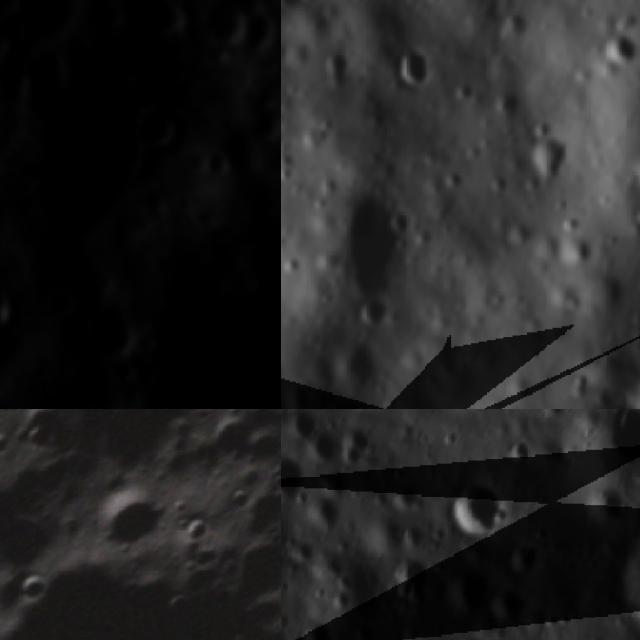crater: (0, 521, 281, 640), (78, 461, 185, 569), (0, 486, 69, 589), (194, 409, 267, 474), (454, 477, 514, 540), (6, 0, 90, 43), (0, 556, 60, 616), (121, 0, 192, 45), (131, 95, 186, 153), (90, 302, 141, 358), (172, 505, 223, 556), (448, 565, 493, 619), (601, 409, 640, 471), (392, 555, 434, 609), (193, 0, 242, 46), (391, 37, 436, 86), (618, 526, 640, 617), (591, 480, 629, 524), (242, 10, 279, 52), (504, 538, 544, 574), (281, 452, 309, 503), (244, 107, 281, 144), (352, 299, 390, 332), (0, 277, 19, 335), (290, 409, 324, 439), (303, 616, 342, 640), (250, 409, 281, 427)
